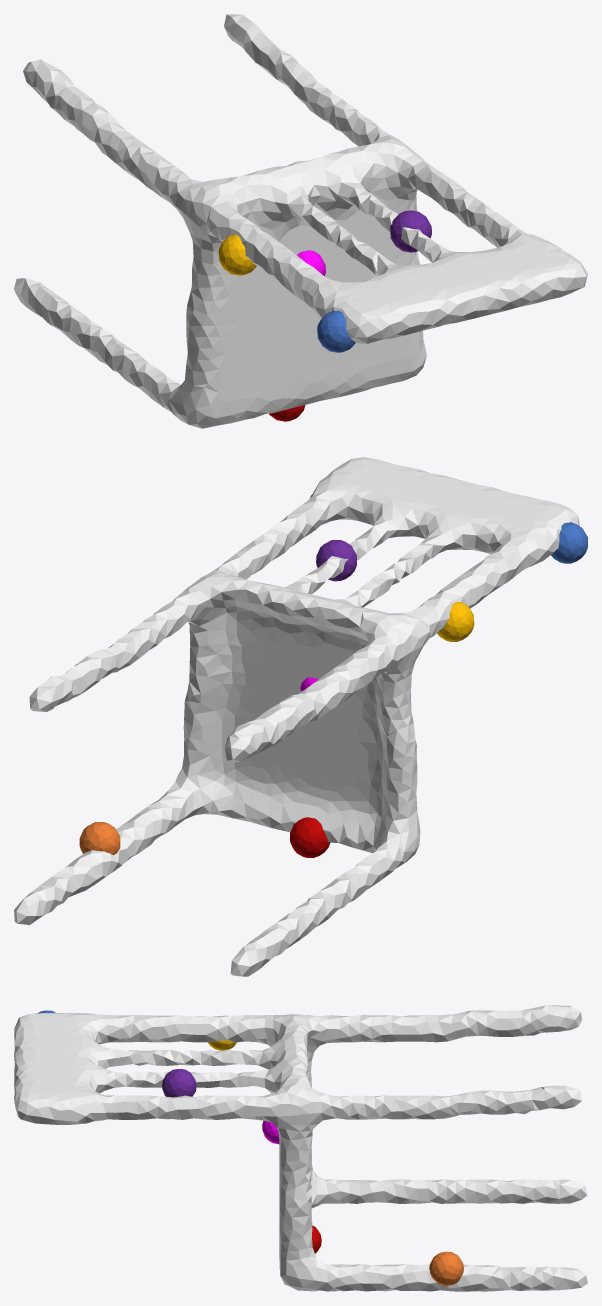
Rendered from source_chair.obj.
The picture shows the model from 3 angles, top to bottom: view 1: azimuth 30°, elevation 25°; view 2: azimuth 150°, elevation 25°; view 3: azimuth 270°, elevation 25°; orthographic projection. The views are drawn at different scales.
Bounding box in the file's own units: 0.7326 × 0.6899 × 1.66.
1 material, 1 textured.
